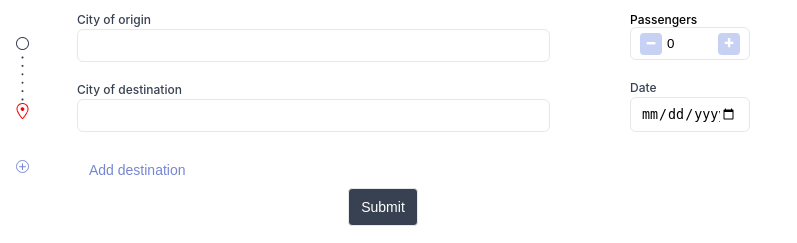
SearchPage form › should validate date
Type "2022-01-01" into the date field labelled "Date".
click(690, 115); type("2022-01-01")  # box [630,97,750,132]
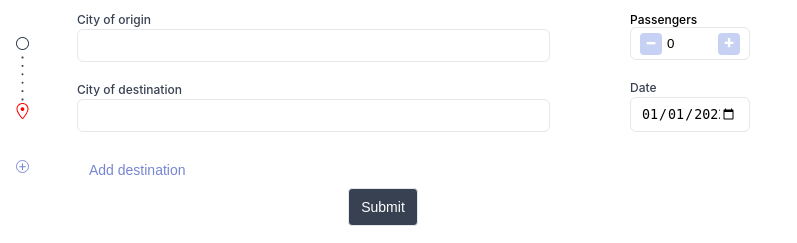
Click the button "Submit".
click(383, 207)  # box [348,188,418,226]
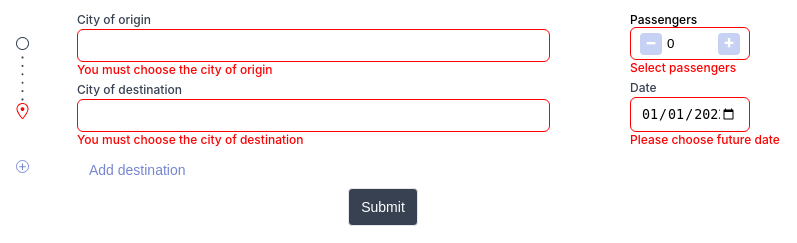
Expected: the text "Please choose future date" is shown, [630,132,780,147]
